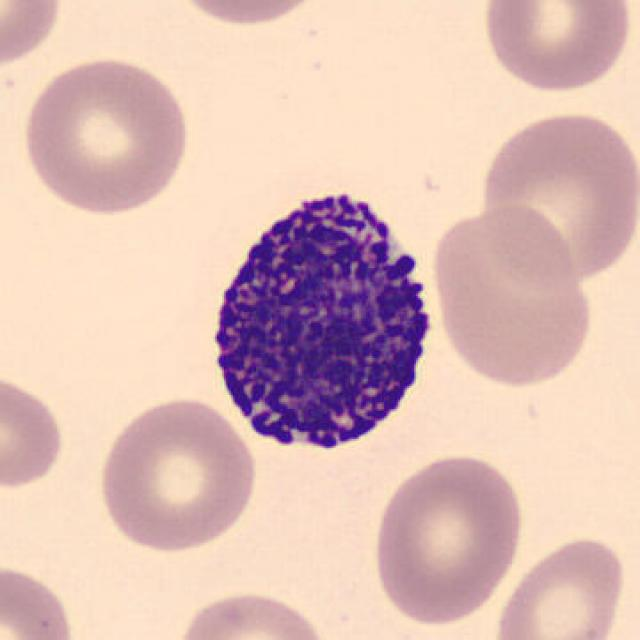Basophil: (192, 169, 450, 469)
RBC: (426, 199, 594, 393), (16, 51, 194, 219), (473, 106, 638, 286), (368, 448, 528, 629), (92, 393, 262, 557), (489, 530, 631, 640), (476, 0, 636, 95), (171, 585, 336, 640), (0, 368, 68, 496), (0, 557, 80, 640), (163, 0, 329, 30), (0, 0, 67, 72)
